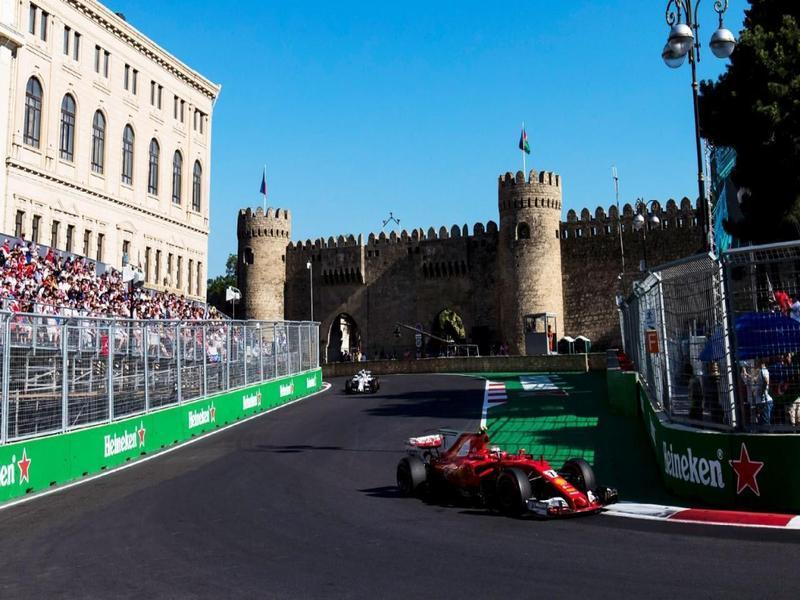f1: (388, 415, 629, 539), (344, 367, 398, 404)
